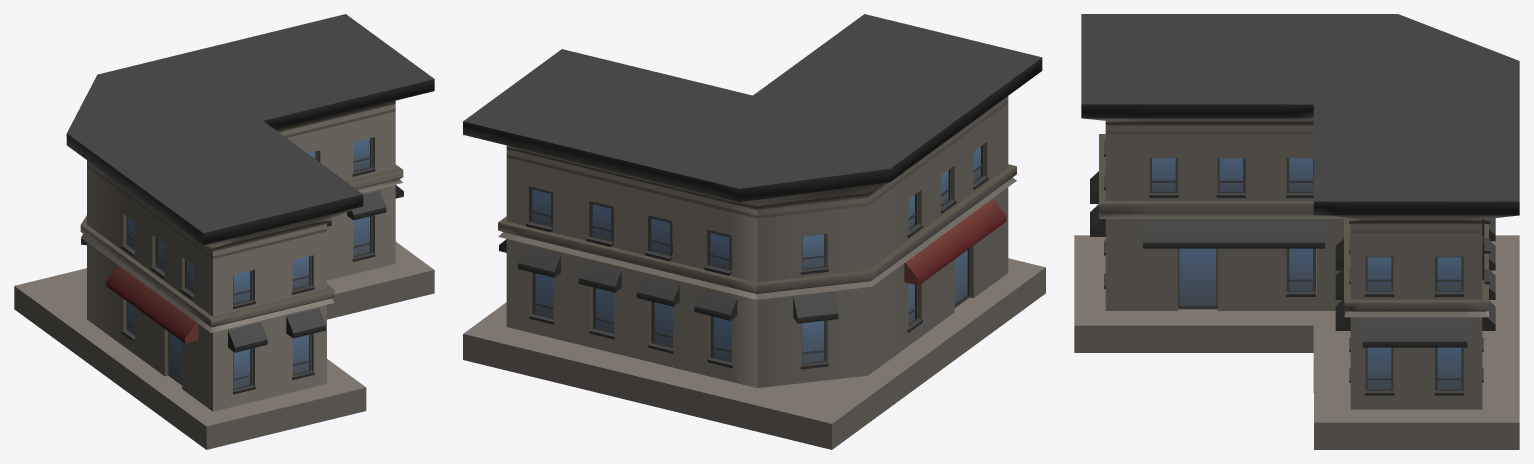
The model's file is buildings-business-commercialbuilding_v5.glb.
3 renders of one model, left to right at view 1: azimuth 30°, elevation 25°; view 2: azimuth 150°, elevation 25°; view 3: azimuth 270°, elevation 25°, orthographic. The views are drawn at different scales.
Parts seen in each view (by area): view 1: CommercialBuilding_v5_base, CommercialBuilding_v5_color, CommercialBuilding_v5_windowRefl; view 2: CommercialBuilding_v5_base, CommercialBuilding_v5_windowRefl, CommercialBuilding_v5_color; view 3: CommercialBuilding_v5_base, CommercialBuilding_v5_color, CommercialBuilding_v5_windowRefl.
Boxes of the visible parts, box(x1,y1,x2,y2) form: CommercialBuilding_v5_base: box(14, 14, 434, 449); CommercialBuilding_v5_color: box(81, 185, 403, 352); CommercialBuilding_v5_windowRefl: box(128, 138, 369, 388); CommercialBuilding_v5_base: box(463, 14, 1045, 449); CommercialBuilding_v5_windowRefl: box(532, 146, 980, 363); CommercialBuilding_v5_color: box(499, 198, 1006, 323); CommercialBuilding_v5_base: box(1074, 14, 1519, 449); CommercialBuilding_v5_color: box(1090, 171, 1495, 347); CommercialBuilding_v5_windowRefl: box(1152, 158, 1461, 389).
Size of the model in its own units: 23.29 by 14.39 by 23.39.
